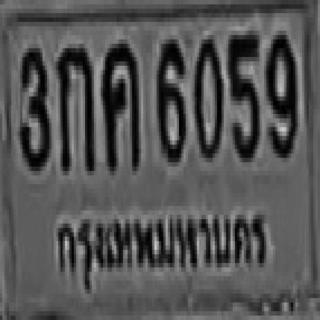A01: (56, 42, 92, 169)
A04: (101, 40, 136, 166)
N00: (192, 35, 222, 158)
N03: (18, 44, 49, 167)
N05: (226, 28, 257, 156)
N06: (154, 35, 183, 158)
N09: (264, 31, 295, 153)
P04: (46, 208, 271, 284)
